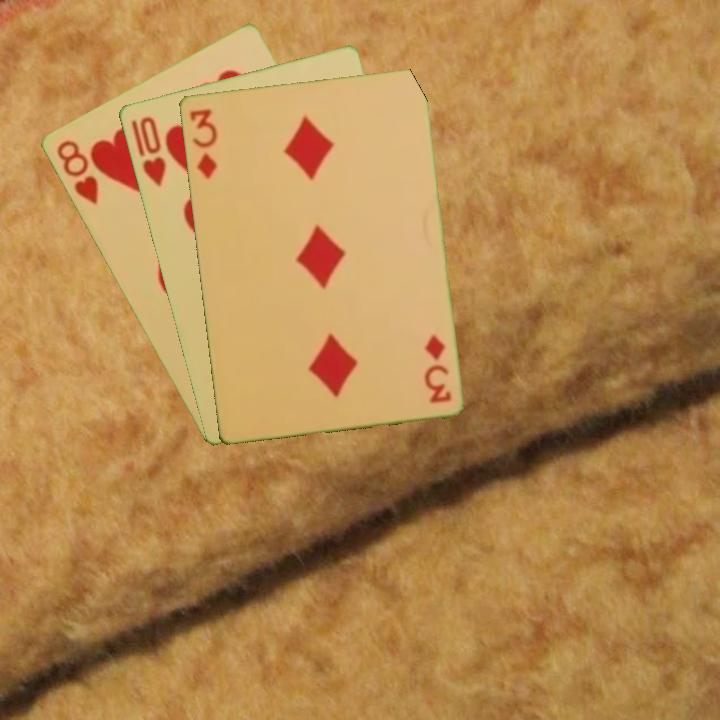10h: (135, 112, 168, 189)
3d: (186, 105, 220, 181), (421, 331, 454, 406)
8h: (52, 136, 101, 208)
